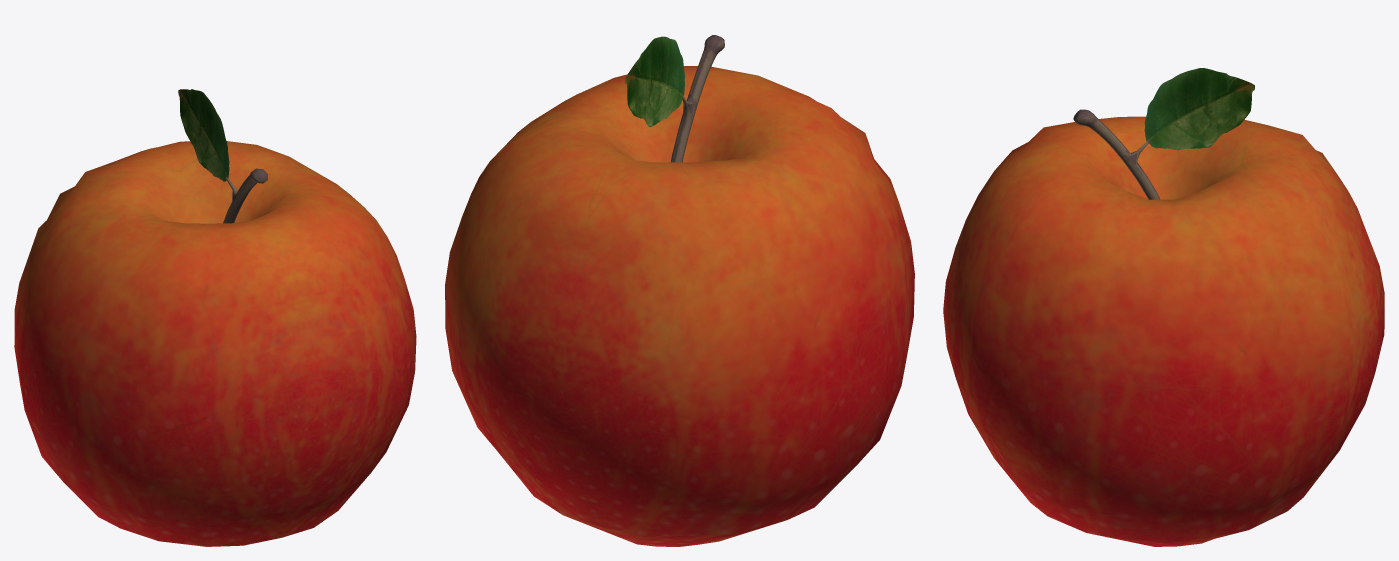
File: apel.gltf
3 renders of one model, left to right at view 1: azimuth 30°, elevation 25°; view 2: azimuth 150°, elevation 25°; view 3: azimuth 270°, elevation 25°, orthographic. The views are drawn at different scales.
Visible parts, largest first — view 1: defaultMaterial; view 2: defaultMaterial; view 3: defaultMaterial.
Part boxes in pixels (x1=…): defaultMaterial: x1=14, y1=89, x2=416, y2=546; defaultMaterial: x1=445, y1=35, x2=914, y2=546; defaultMaterial: x1=943, y1=68, x2=1384, y2=546.
Size of the model in its own units: 1.53 by 2.01 by 1.57.
1 material, 1 textured.
